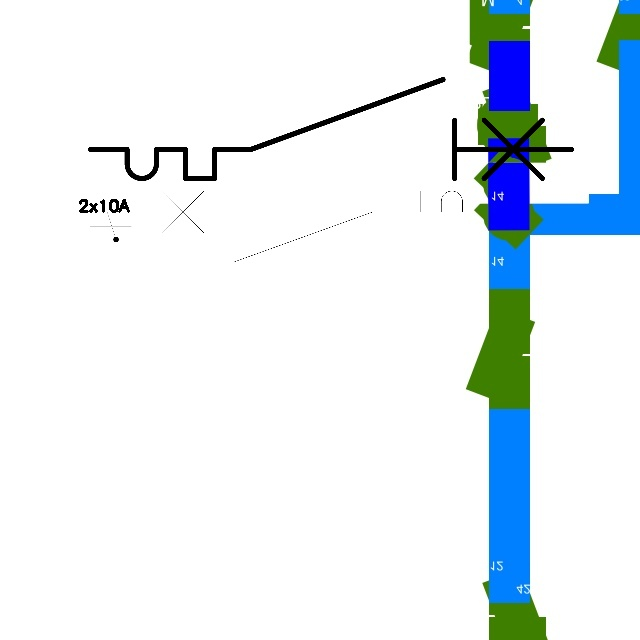interruptor_termomagnetico: (78, 67, 584, 191), (131, 182, 497, 271)
